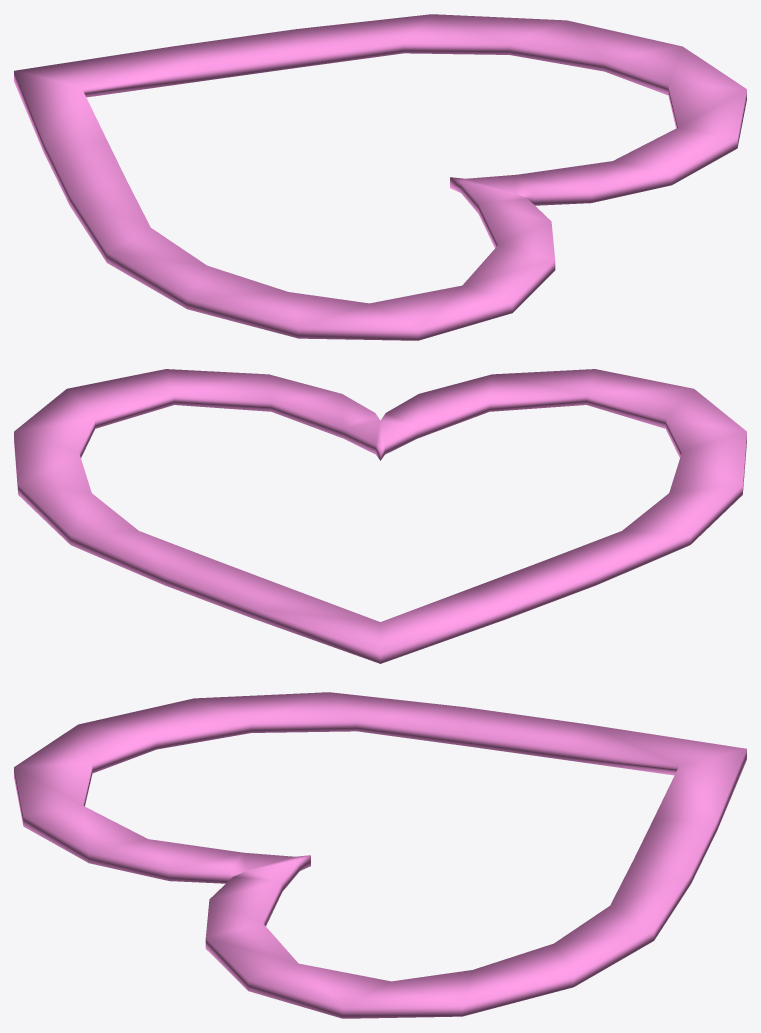
The model's file is heart_1.fbx.
The picture shows the model from 3 angles, top to bottom: view 1: azimuth 30°, elevation 25°; view 2: azimuth 150°, elevation 25°; view 3: azimuth 270°, elevation 25°; orthographic projection. The views are drawn at different scales.
Visible parts, largest first — view 1: heart_1; view 2: heart_1; view 3: heart_1.
Part boxes in pixels (x1,y1,x2,y2): heart_1: (14, 14, 746, 340); heart_1: (14, 369, 746, 663); heart_1: (14, 692, 746, 1018).
Bounding box in the file's own units: 61.85 × 1 × 60.69.
